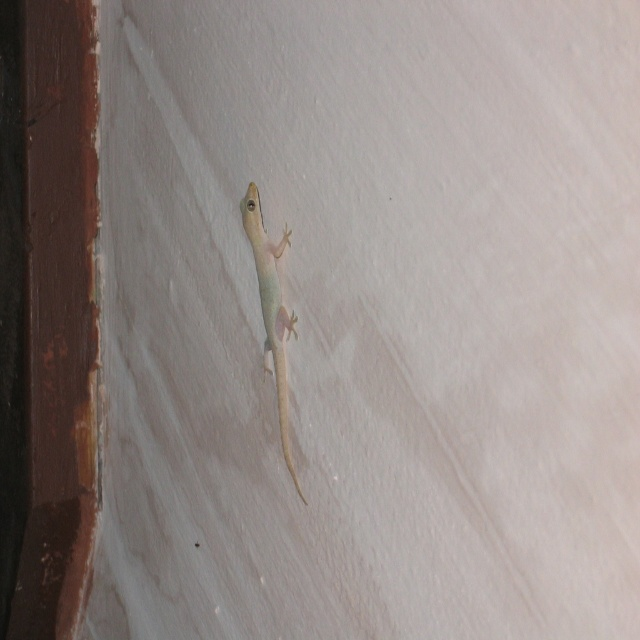Lizard: (237, 182, 306, 508)
